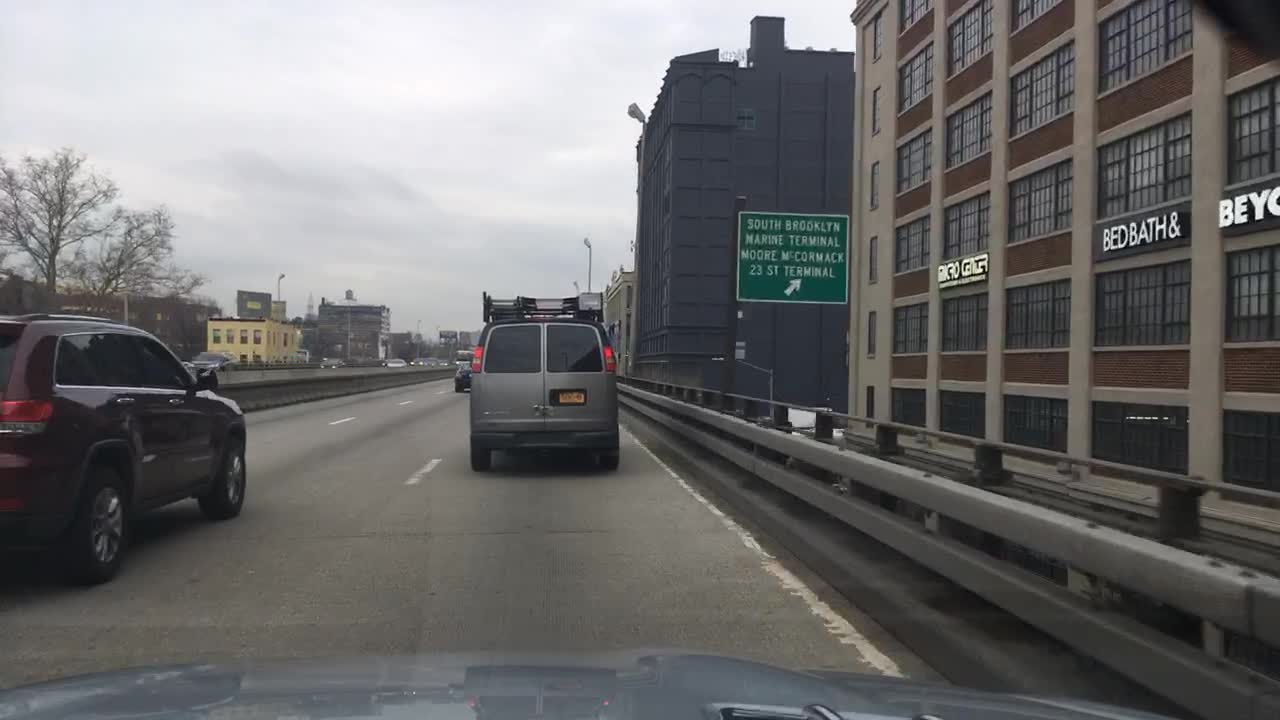bus: (455, 347, 476, 361)
car: (0, 312, 246, 584), (467, 290, 617, 469), (192, 353, 233, 373), (455, 363, 476, 390), (379, 356, 408, 369), (319, 356, 347, 368), (425, 354, 440, 368), (437, 356, 450, 368), (410, 356, 423, 368)
traffic sign: (734, 211, 847, 304)
